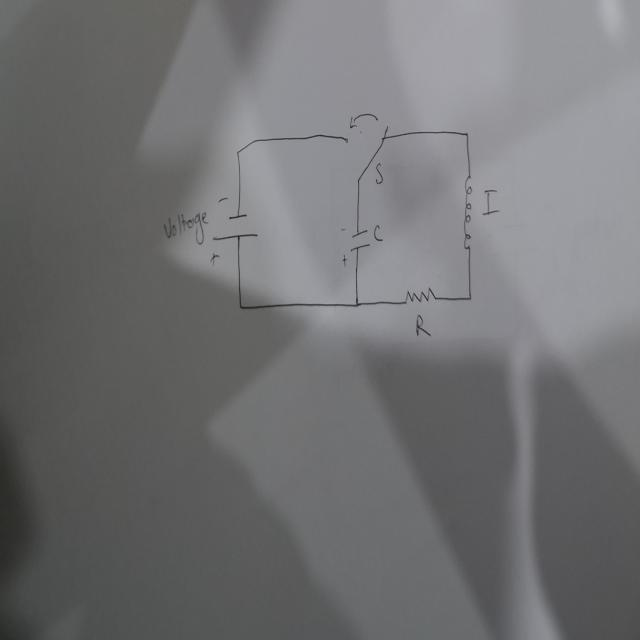capacitor: (339, 223, 372, 268)
inductor: (462, 164, 473, 258)
junction: (466, 289, 474, 305), (233, 144, 241, 160), (353, 296, 361, 310), (237, 299, 244, 313), (463, 128, 470, 140)
resistor: (404, 283, 436, 307)
source: (210, 209, 258, 245)
switch: (342, 108, 389, 184)
text: (160, 206, 209, 245), (481, 185, 500, 217), (414, 312, 432, 342), (372, 222, 383, 243), (374, 163, 384, 184)
